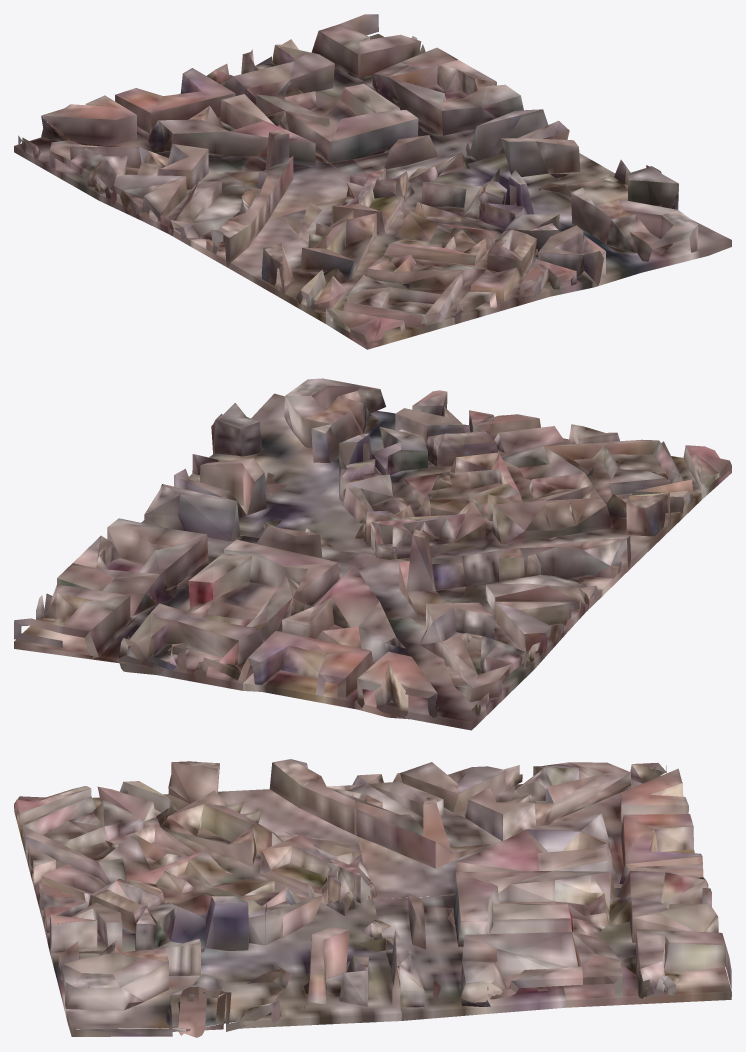
The picture shows the model from 3 angles, top to bottom: view 1: azimuth 30°, elevation 25°; view 2: azimuth 150°, elevation 25°; view 3: azimuth 270°, elevation 25°; orthographic projection. The views are drawn at different scales.
Parts seen in each view (by area): view 1: Mesh_0; view 2: Mesh_0; view 3: Mesh_0.
Part boxes in pixels (x1,y1,x2,y2): Mesh_0: (14, 14, 731, 349); Mesh_0: (14, 378, 731, 730); Mesh_0: (14, 759, 731, 1037).
Bounding box in the file's own units: 532 × 84.31 × 659.
Materials: 2 (2 with a texture image).
